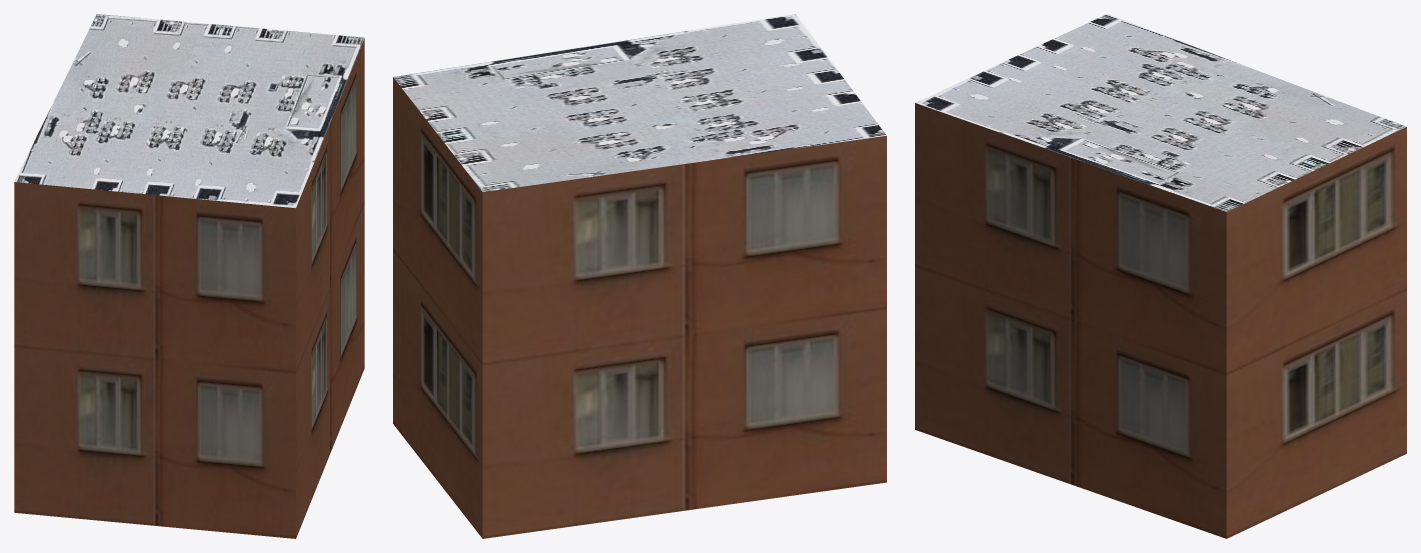
Rendered from ResTex__1672.fbx.
3 renders of one model, left to right at view 1: azimuth 30°, elevation 25°; view 2: azimuth 150°, elevation 25°; view 3: azimuth 270°, elevation 25°, orthographic. The views are drawn at different scales.
Visible parts, largest first — view 1: CityEngineMaterial_20_m, CityEngineMaterial_8_m; view 2: CityEngineMaterial_20_m, CityEngineMaterial_8_m; view 3: CityEngineMaterial_20_m, CityEngineMaterial_8_m.
Boxes of the visible parts, <box> form: CityEngineMaterial_20_m: <box>14,38,364,538</box>; CityEngineMaterial_8_m: <box>14,14,364,208</box>; CityEngineMaterial_20_m: <box>393,77,886,538</box>; CityEngineMaterial_8_m: <box>393,14,886,191</box>; CityEngineMaterial_20_m: <box>915,103,1406,538</box>; CityEngineMaterial_8_m: <box>915,14,1406,211</box>.
Size of the model in its own units: 7.8 by 6 by 8.18.
Materials: 2 (2 with a texture image).
